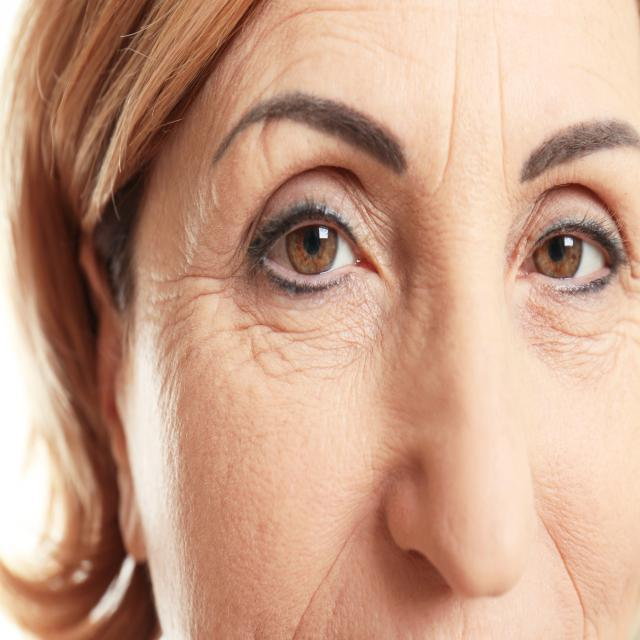dry: (158, 164, 252, 464), (276, 511, 412, 640), (504, 258, 621, 386), (528, 448, 612, 614), (272, 298, 397, 402)
